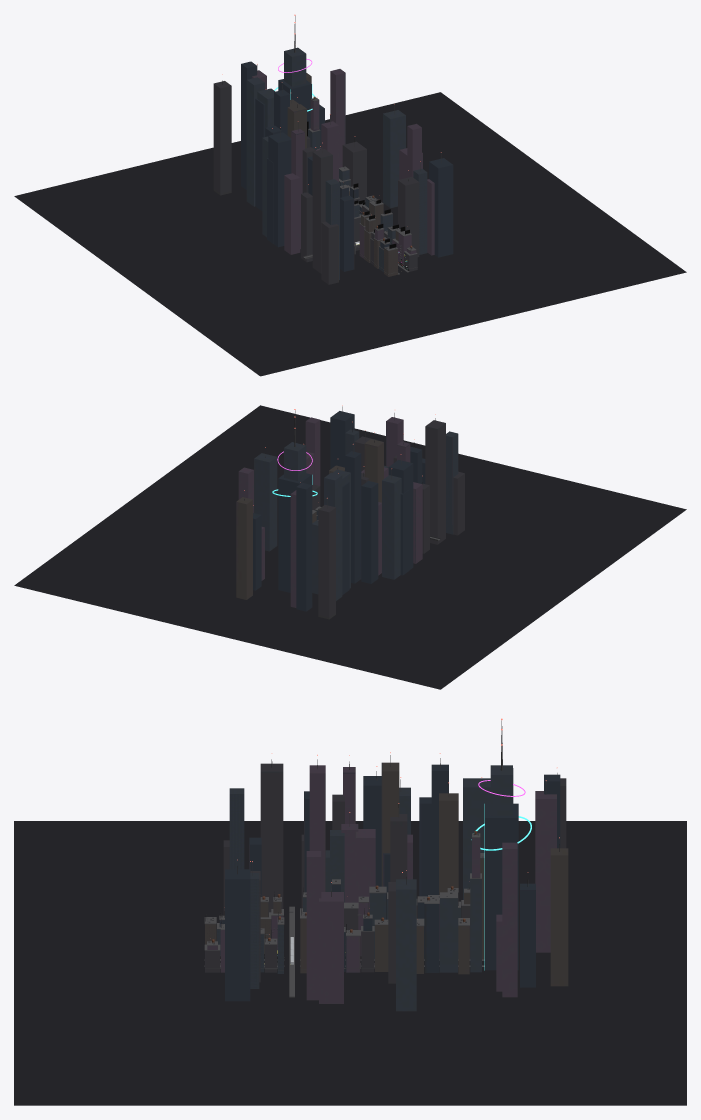
The picture shows the model from 3 angles, top to bottom: view 1: azimuth 30°, elevation 25°; view 2: azimuth 150°, elevation 25°; view 3: azimuth 270°, elevation 25°; orthographic projection. The views are drawn at different scales.
Visible parts, largest first — view 1: s3_v1; view 2: s3_v1; view 3: s3_v1.
Boxes of the visible parts, left/top/right/bottom form: s3_v1: left=14, top=14, right=686, bottom=376; s3_v1: left=14, top=405, right=686, bottom=689; s3_v1: left=14, top=718, right=686, bottom=1105.
Size of the model in its own units: 600 by 241 by 600.
85 materials, 4 textured.
